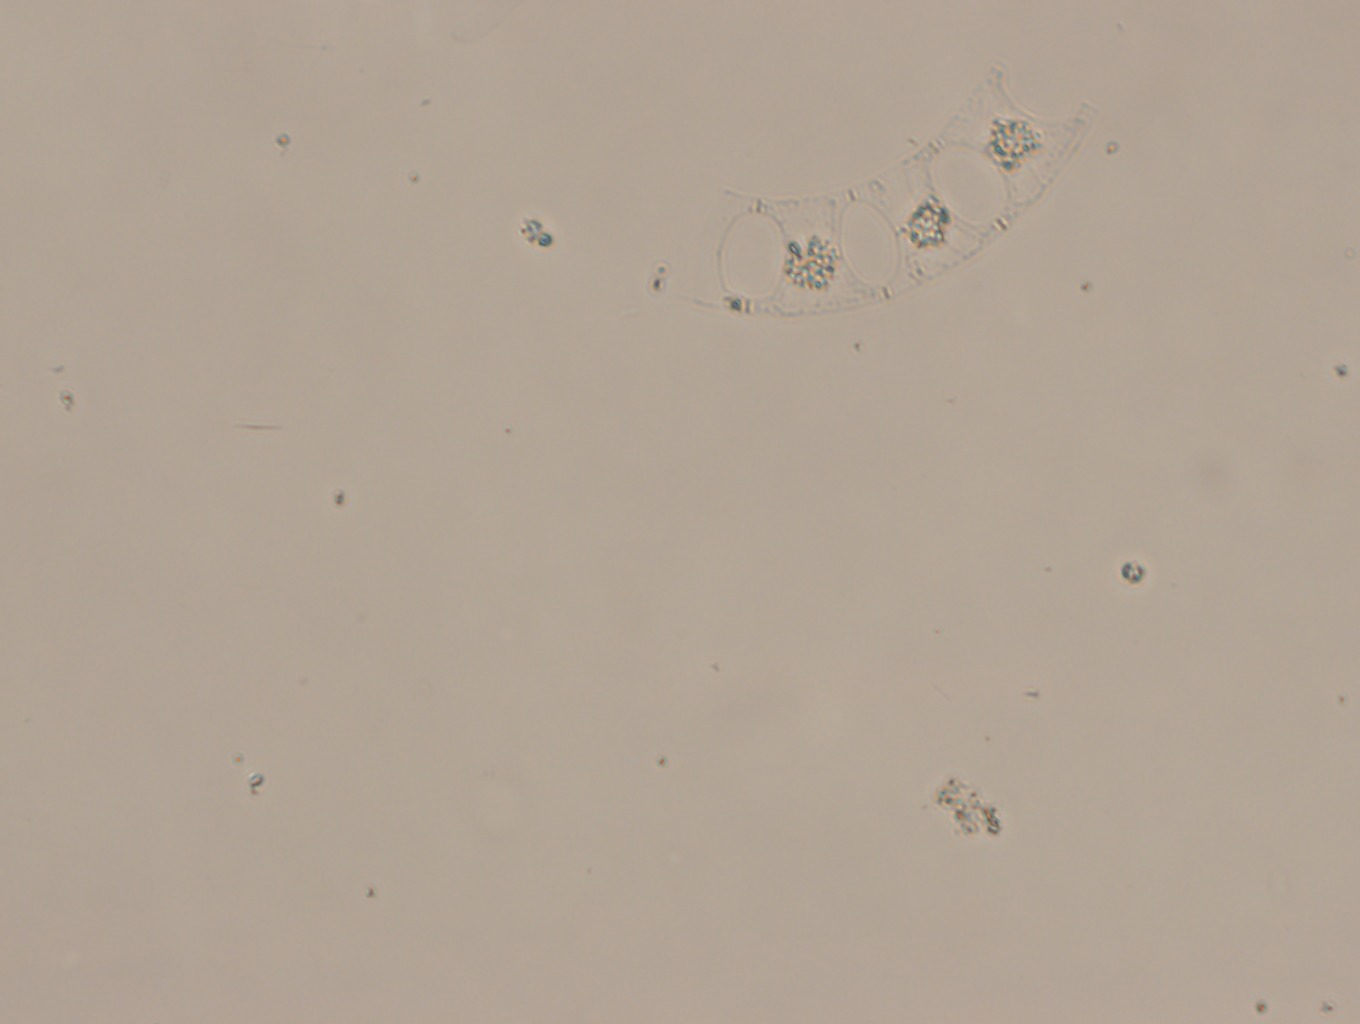eucampia: (609, 67, 1112, 326)
